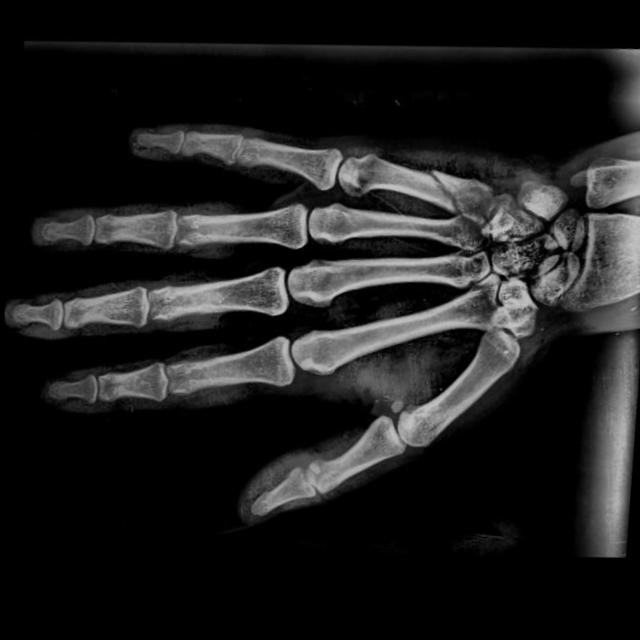fracture: (422, 170, 471, 226), (300, 460, 339, 498)
